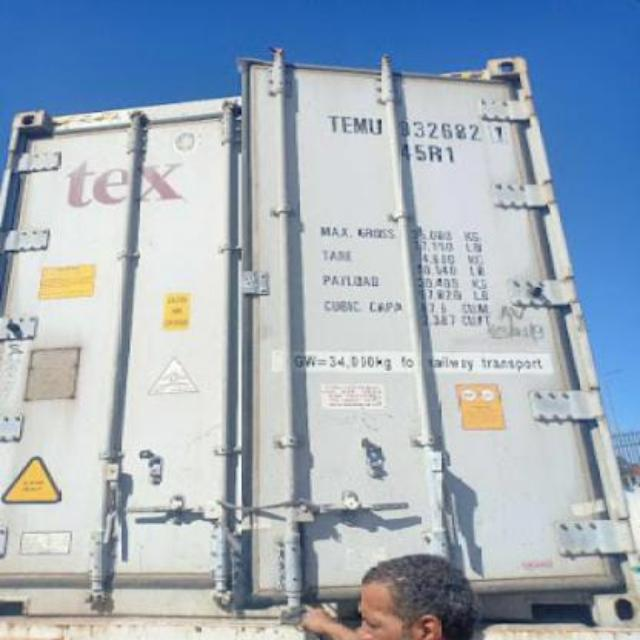1: (490, 122, 506, 146)
2: (466, 120, 482, 144), (424, 118, 438, 142)
3: (410, 116, 426, 140)
6: (438, 120, 454, 142)
8: (452, 120, 468, 142)
9: (398, 118, 412, 138)
E: (338, 112, 354, 136)
M: (352, 112, 370, 136)
T: (324, 112, 342, 136)
U: (368, 114, 384, 136)
